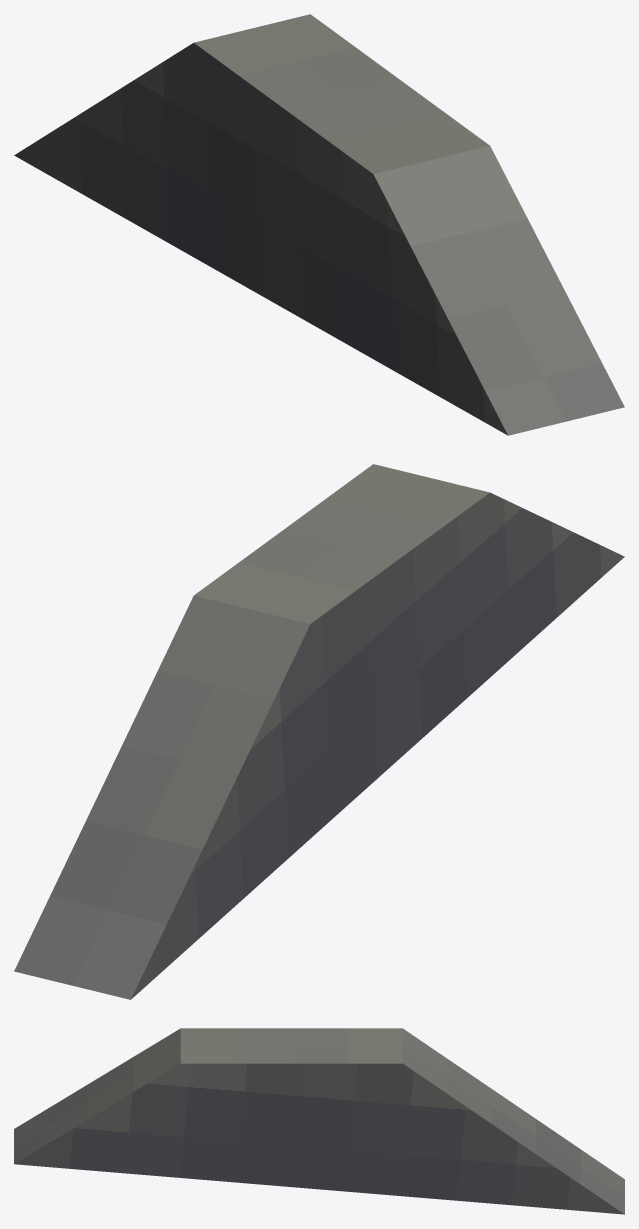
File: FlintPickaxe.glb
3 renders of one model, top to bottom at view 1: azimuth 30°, elevation 25°; view 2: azimuth 150°, elevation 25°; view 3: azimuth 270°, elevation 25°, orthographic. The views are drawn at different scales.
Visible parts, largest first — view 1: flint_pickaxe; view 2: flint_pickaxe; view 3: flint_pickaxe.
Part boxes in pixels (<box>): flint_pickaxe: <box>14,14,624,435</box>; flint_pickaxe: <box>14,464,624,999</box>; flint_pickaxe: <box>14,1028,624,1214</box>.
Bounding box in the file's own units: 0.0938 × 0.1875 × 0.6875.
Materials: 1 (1 with a texture image).
